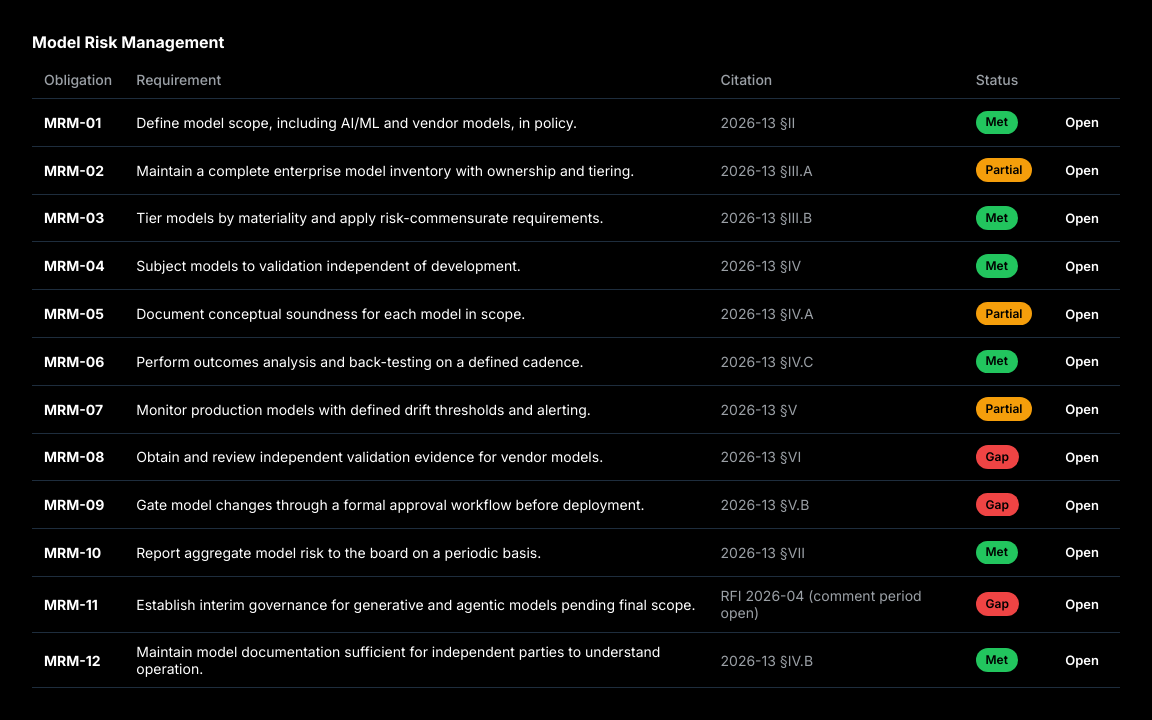
it: B-dead-interactions-01/-02 · OnSideDocuments gap board + obligation registers open the obligation drawer › MRM-09 offers a real "Approve & adopt" action (redline draft exists) that closes the obligation on press
(page scrolled)
Click the button "Open" in the row of "2026-13 §V.B" at (1082, 505), box 1056,492 -> 1108,518
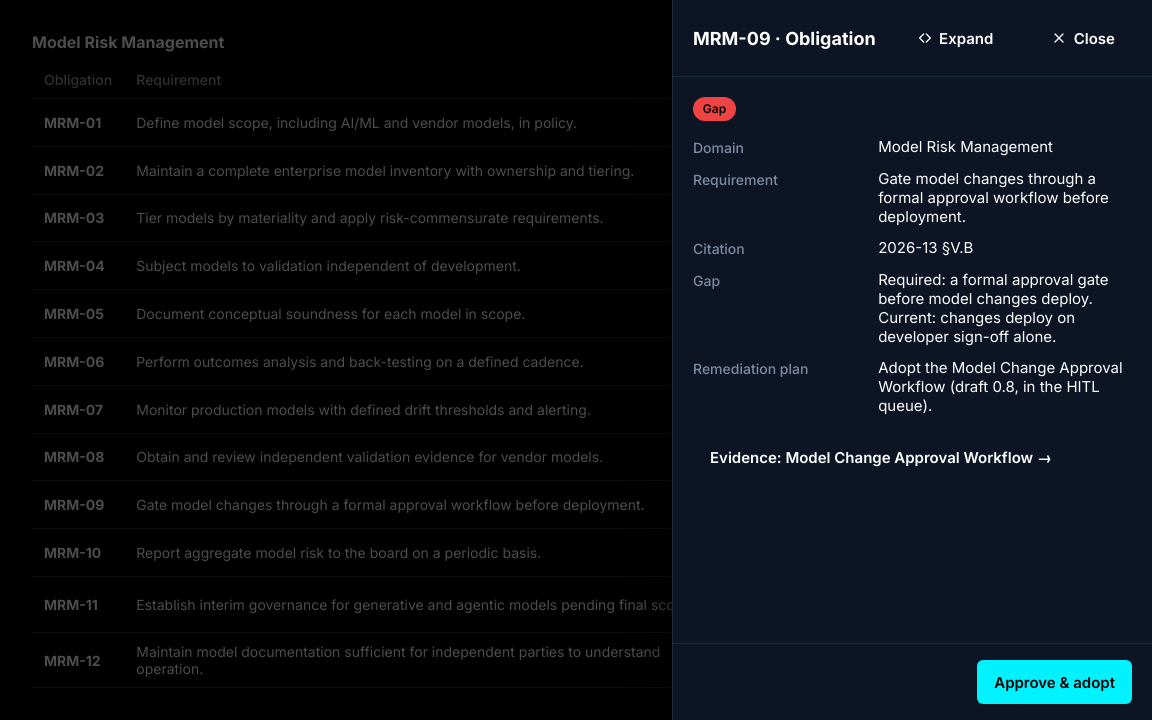
Click the button "Approve & adopt" at (1055, 682), box 977,660 -> 1132,704
(page scrolled)
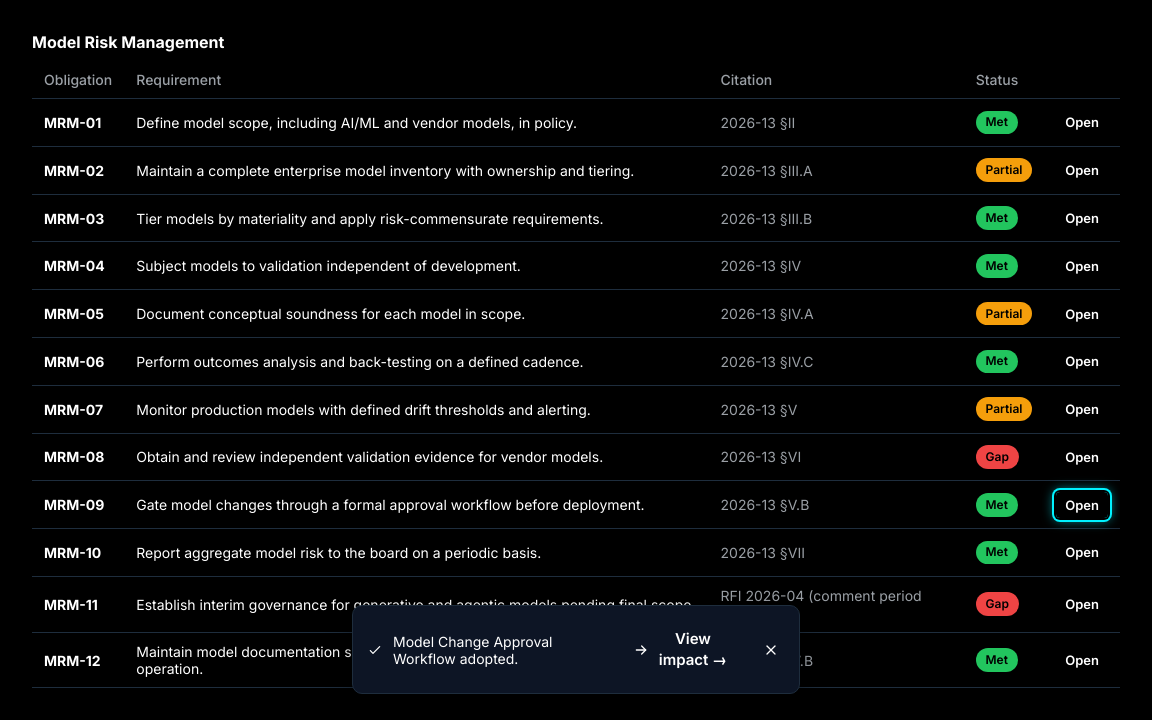
Now the button "Approve & adopt" is gone
